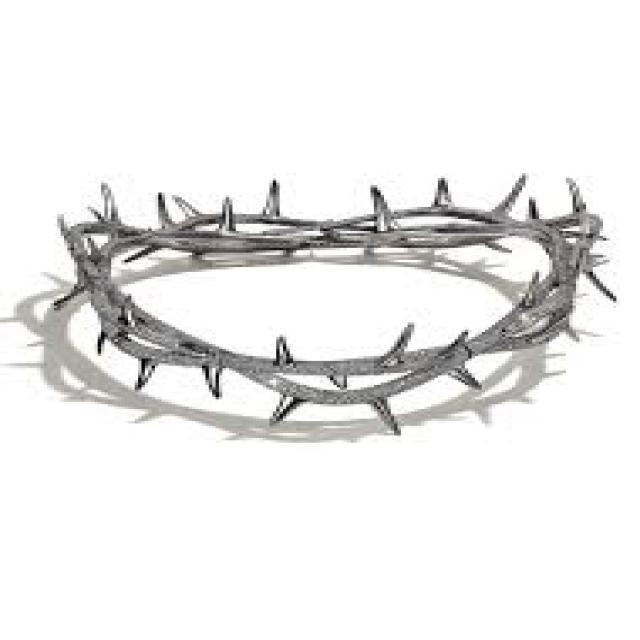crown: (36, 100, 640, 440)
